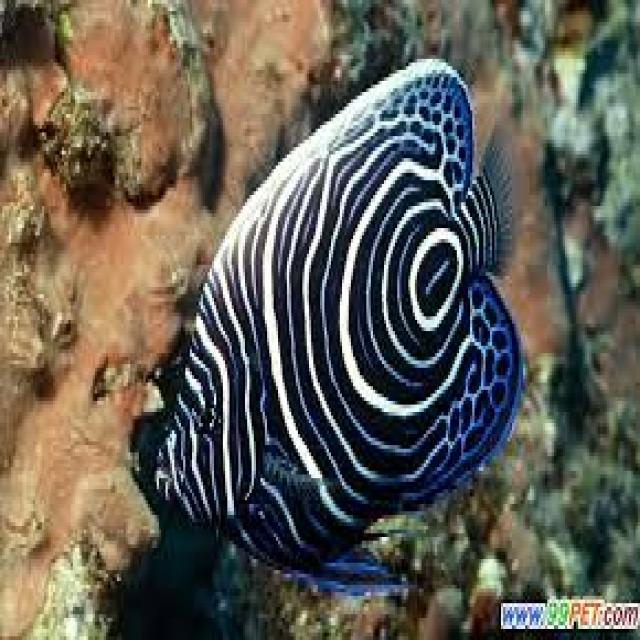AngelFish: (161, 67, 525, 544)
